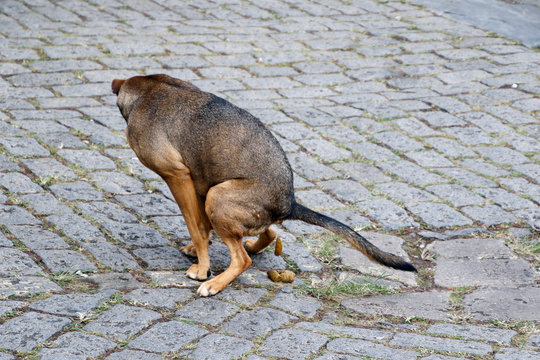dog_pooping: (109, 71, 422, 300)
